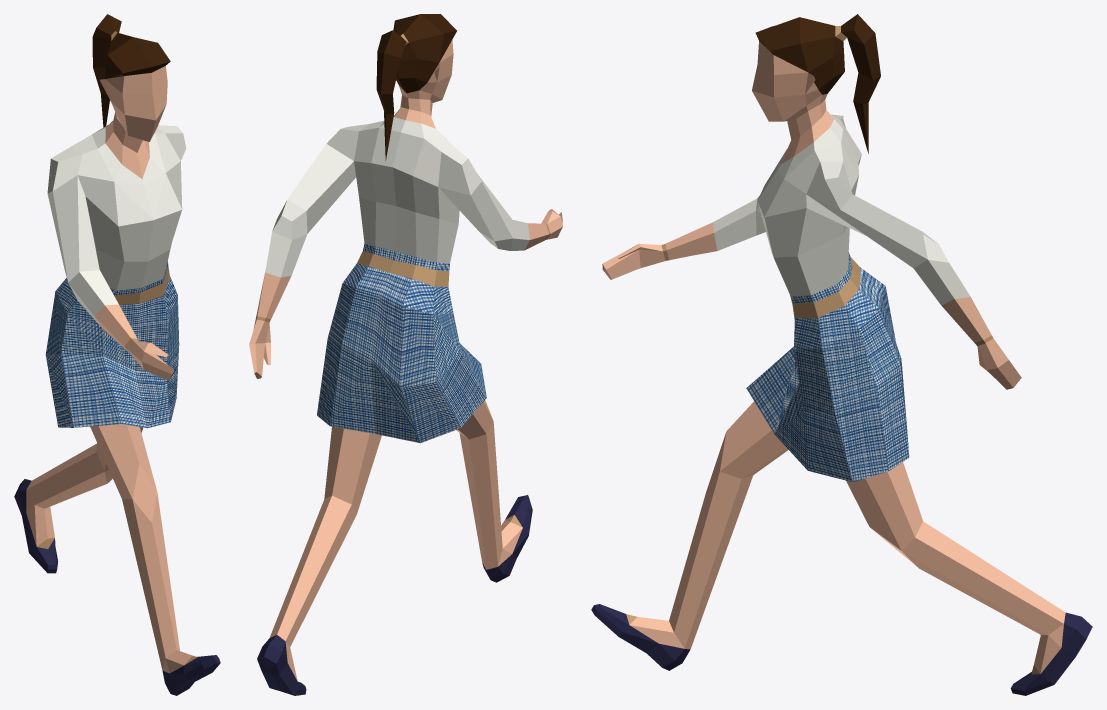
File: SpringWomanB.004.glb
The picture shows the model from 3 angles, left to right: view 1: azimuth 30°, elevation 25°; view 2: azimuth 150°, elevation 25°; view 3: azimuth 270°, elevation 25°; orthographic projection. The views are drawn at different scales.
Visible parts, largest first — view 1: SpringWomanB.004; view 2: SpringWomanB.004; view 3: SpringWomanB.004.
Part boxes in pixels (x1,y1,x2,y2): SpringWomanB.004: (14, 14, 220, 695); SpringWomanB.004: (249, 14, 562, 695); SpringWomanB.004: (591, 14, 1092, 695).
Bounding box in the file's own units: 0.4428 × 1.59 × 1.08.
1 material, 1 textured.
